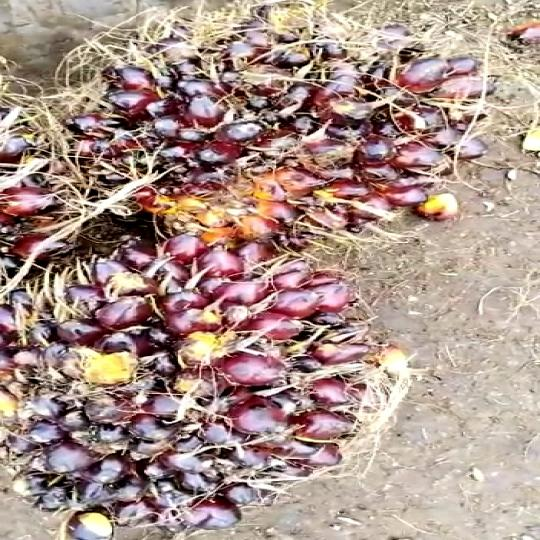kurang masak: (78, 6, 516, 272), (0, 231, 371, 540)
